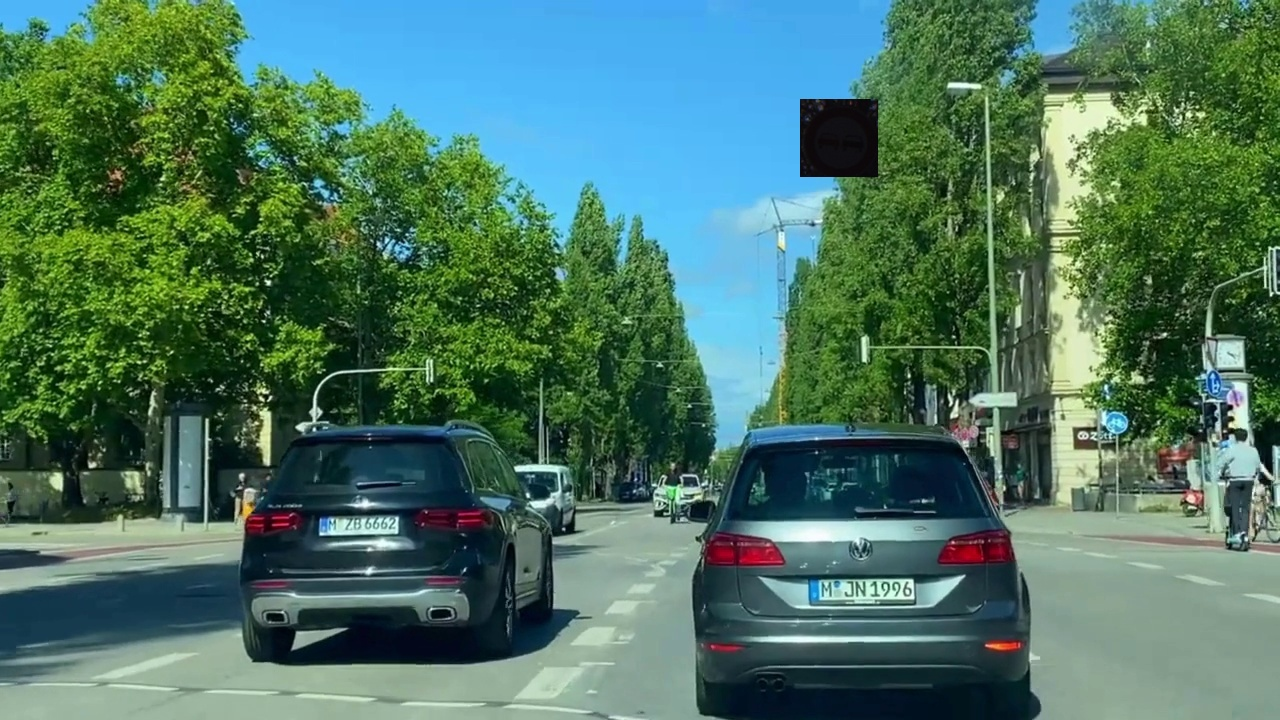No passing: (800, 99, 878, 177)
